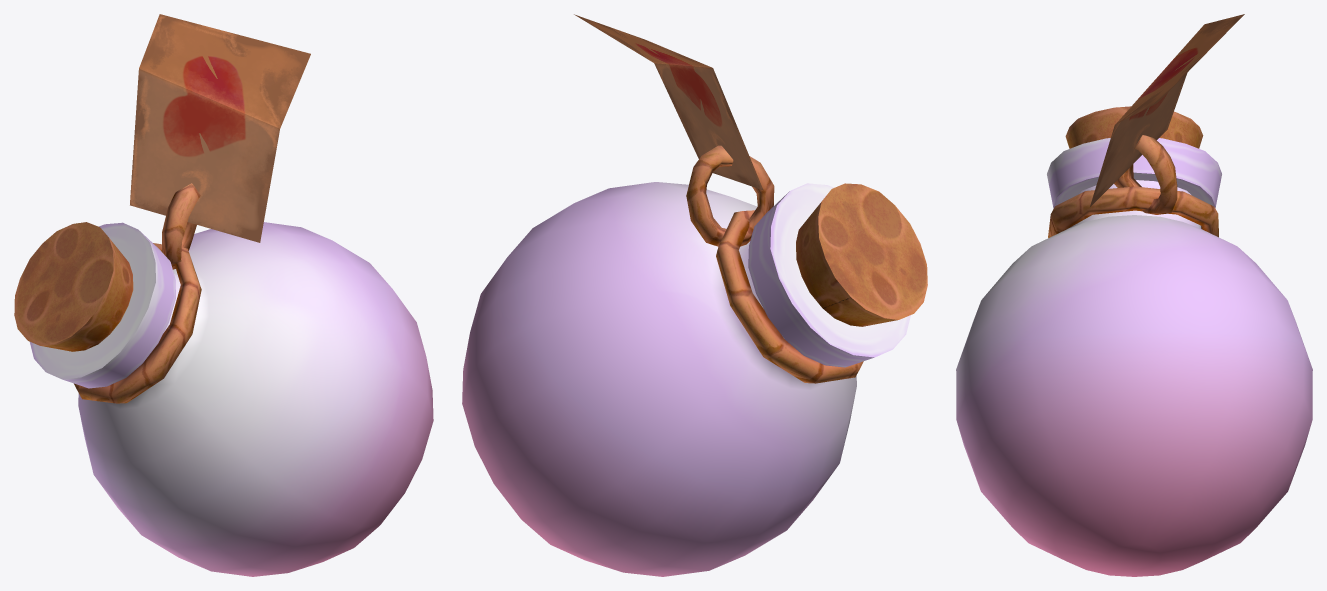
File: amorpocion.fbx
The picture shows the model from 3 angles, left to right: view 1: azimuth 30°, elevation 25°; view 2: azimuth 150°, elevation 25°; view 3: azimuth 270°, elevation 25°; orthographic projection. The views are drawn at different scales.
Visible parts, largest first — view 1: botella_low, etiqueta_low, tapon_low, cuerda_low, lazo_low; view 2: botella_low, tapon_low, etiqueta_low, cuerda_low, lazo_low; view 3: botella_low, etiqueta_low, cuerda_low, tapon_low, lazo_low.
Boxes of the visible parts, bbox=[...] form: botella_low: bbox=[30, 222, 433, 576]; etiqueta_low: bbox=[130, 14, 310, 242]; tapon_low: bbox=[14, 222, 133, 351]; cuerda_low: bbox=[74, 243, 201, 403]; lazo_low: bbox=[162, 183, 200, 269]; botella_low: bbox=[462, 182, 910, 576]; tapon_low: bbox=[796, 183, 927, 326]; etiqueta_low: bbox=[574, 14, 763, 189]; cuerda_low: bbox=[716, 210, 863, 383]; lazo_low: bbox=[686, 145, 774, 246]; botella_low: bbox=[956, 138, 1312, 576]; etiqueta_low: bbox=[1090, 14, 1244, 206]; cuerda_low: bbox=[1048, 186, 1218, 237]; tapon_low: bbox=[1065, 106, 1203, 148]; lazo_low: bbox=[1114, 135, 1177, 214].
Bounding box in the file's own units: 26.2 × 33.83 × 20.85.
